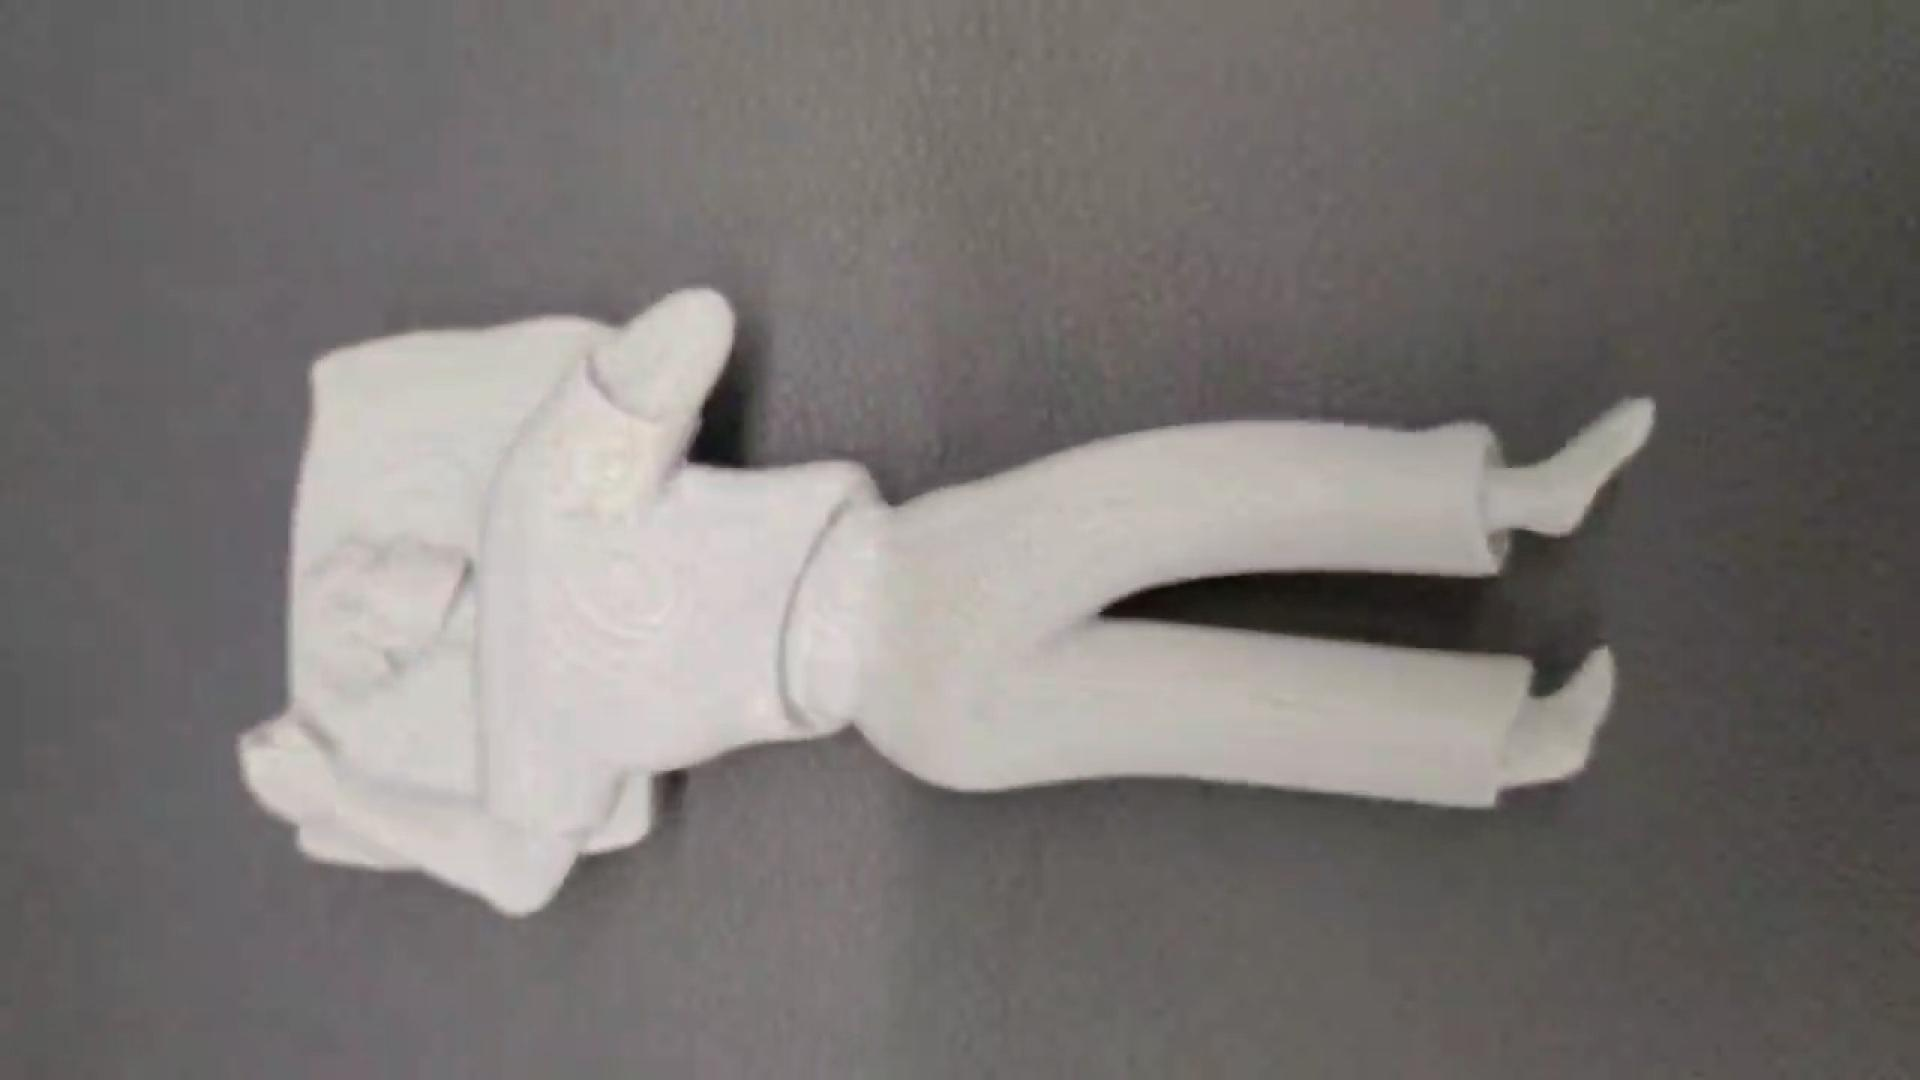Bad-style: (231, 277, 1665, 930)
